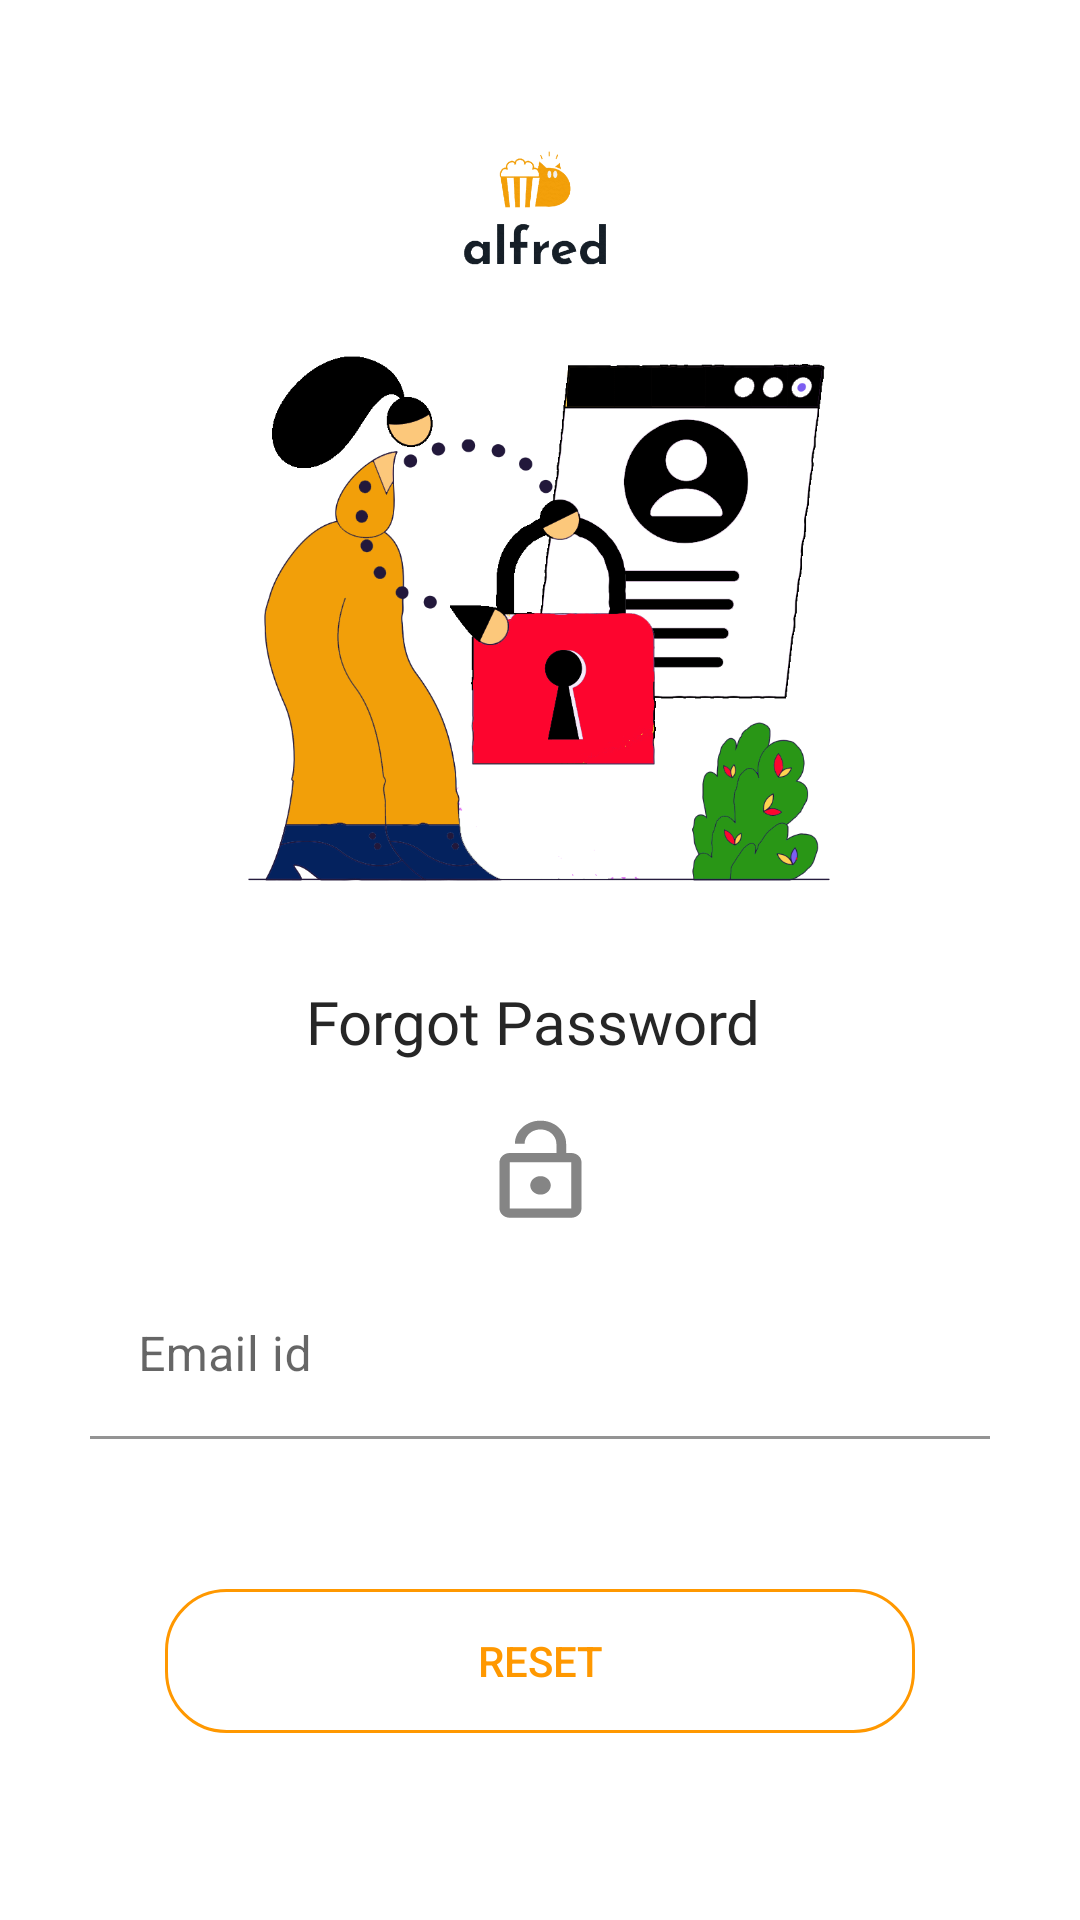

Named icons in this screenshot (1080px x 1920px) and their centers, [x,y]:
lockgrey: [540,1169]
